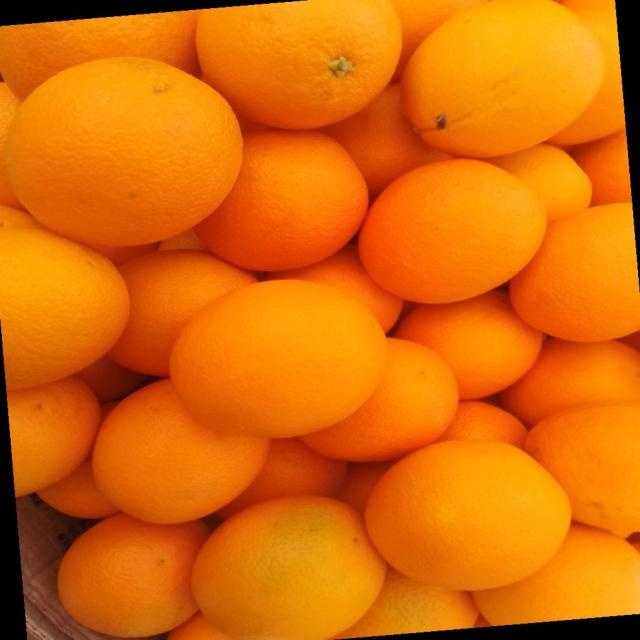agrume: (3, 1, 636, 635), (8, 57, 236, 246), (345, 434, 588, 603), (174, 278, 382, 438), (403, 0, 603, 156), (360, 159, 544, 304), (195, 1, 397, 129), (93, 380, 263, 524), (315, 323, 475, 475), (195, 132, 365, 272), (2, 222, 127, 390), (393, 285, 554, 409), (520, 384, 640, 544), (108, 250, 255, 378), (58, 514, 207, 637), (512, 204, 637, 341), (326, 85, 455, 195), (8, 376, 98, 500), (213, 438, 345, 518), (487, 144, 593, 221)
